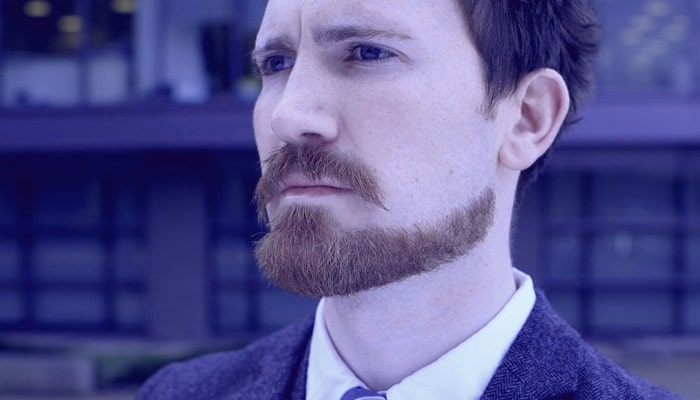beard: (237, 144, 504, 305)
